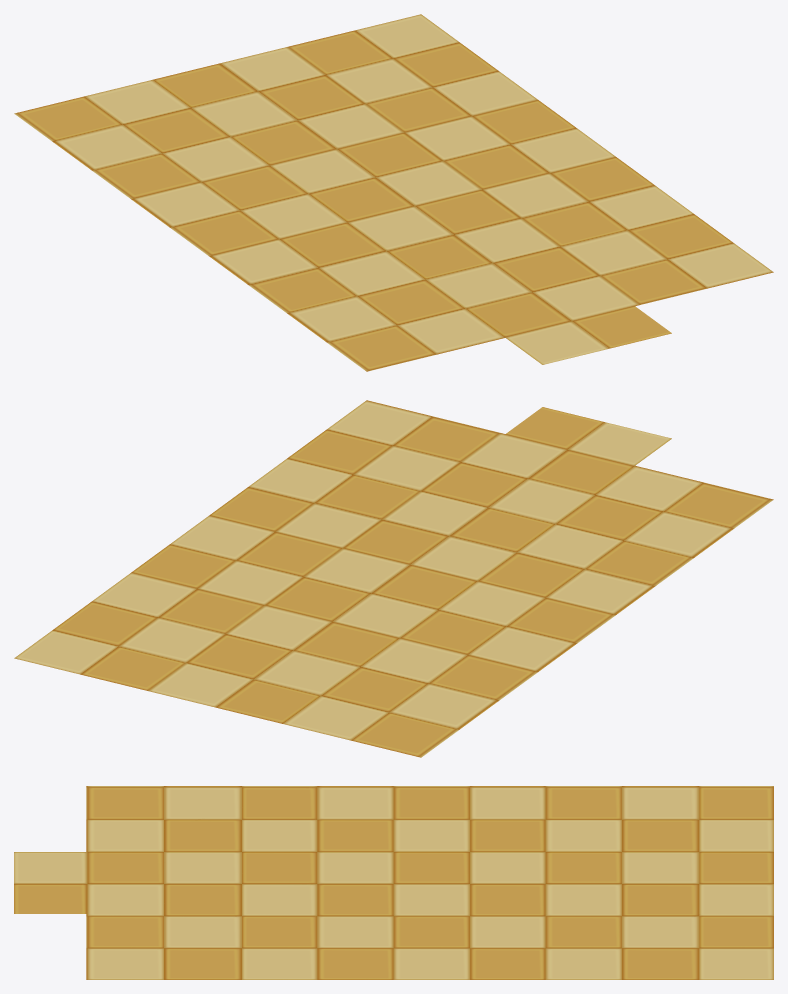
Rendered from Floor02_c01.FBX.
3 renders of one model, top to bottom at view 1: azimuth 30°, elevation 25°; view 2: azimuth 150°, elevation 25°; view 3: azimuth 270°, elevation 25°, orthographic. The views are drawn at different scales.
Parts seen in each view (by area): view 1: Floor02_c01; view 2: Floor02_c01; view 3: Floor02_c01.
Part boxes in pixels (box(x1,y1,x2,y2)): Floor02_c01: box(14, 14, 773, 371); Floor02_c01: box(14, 400, 773, 757); Floor02_c01: box(14, 786, 773, 979).
Bounding box in the file's own units: 600 × 0.000446 × 995.
Materials: 1 (1 with a texture image).
